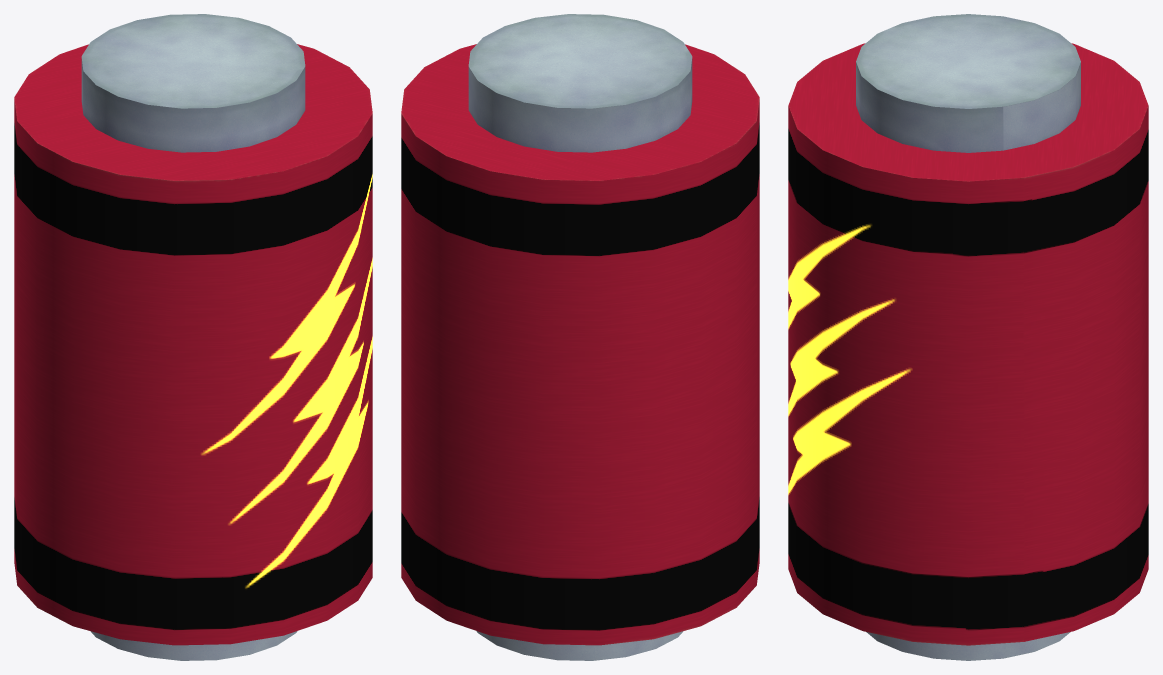
The model's file is ASM - PBR Metallic Roughness.glb.
3 renders of one model, left to right at view 1: azimuth 30°, elevation 25°; view 2: azimuth 150°, elevation 25°; view 3: azimuth 270°, elevation 25°, orthographic.
Visible parts, largest first — view 1: pCylinder1, pCylinder2; view 2: pCylinder1, pCylinder2; view 3: pCylinder1, pCylinder2.
Boxes of the visible parts, x1,y1,x2,y2 form: pCylinder1: (14, 44, 372, 645); pCylinder2: (81, 14, 305, 660); pCylinder1: (401, 44, 759, 645); pCylinder2: (468, 14, 692, 660); pCylinder1: (788, 43, 1148, 645); pCylinder2: (856, 14, 1080, 660).
Size of the model in its own units: 0.0306 by 0.0517 by 0.0306.
2 materials, 2 textured.
